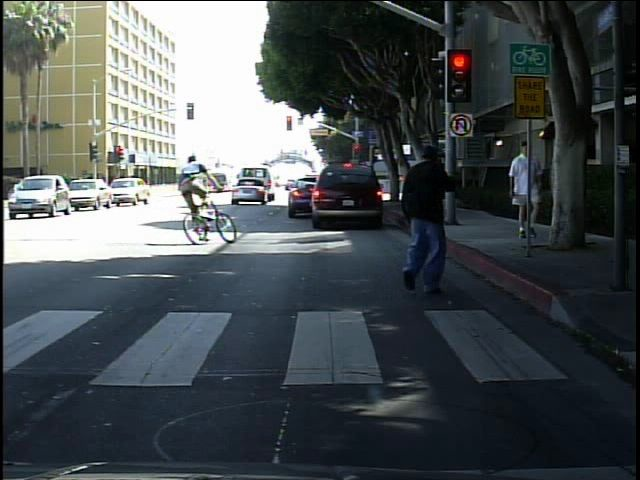person: (387, 142, 454, 300), (152, 141, 214, 235), (549, 139, 584, 244), (511, 138, 542, 240)
